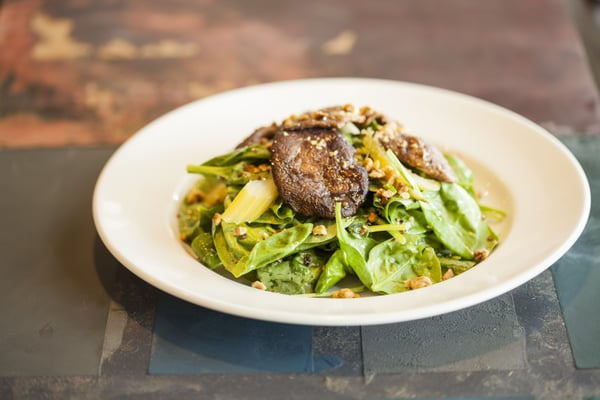sushi: (104, 83, 590, 332)
